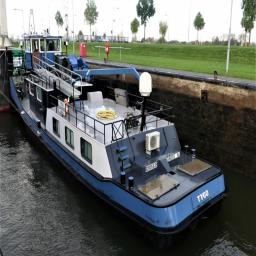tugboat: (8, 34, 232, 248)
